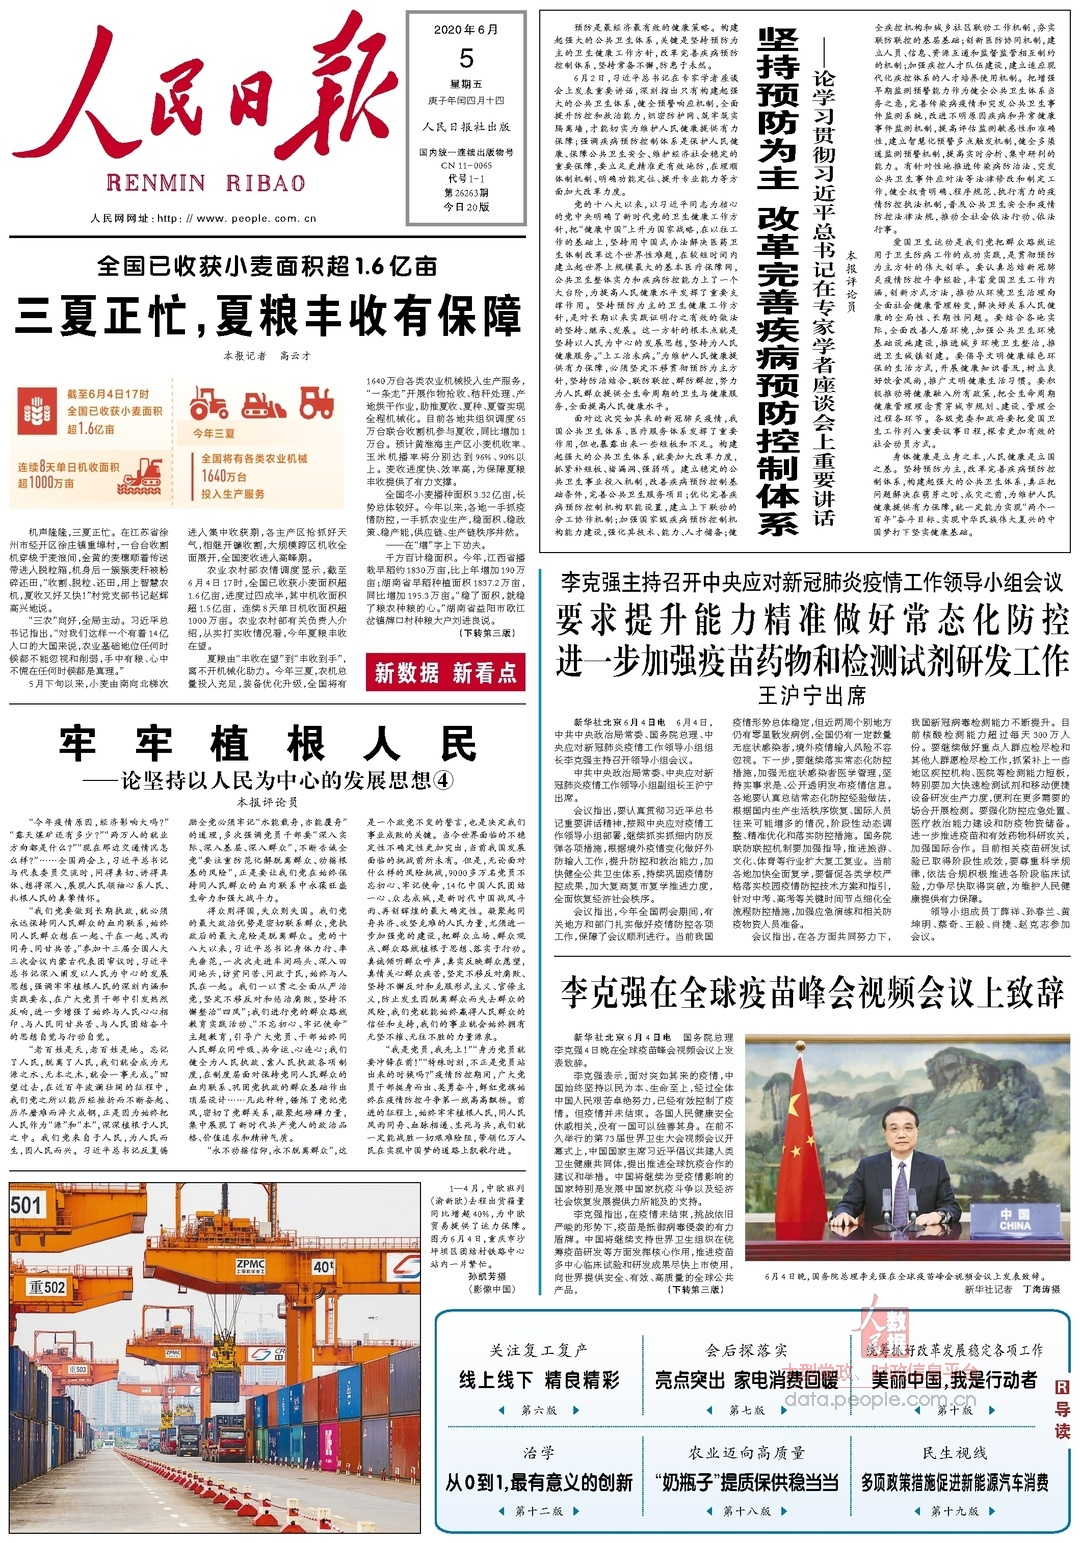pic: (4, 1176, 424, 1538), (740, 1031, 1076, 1267)
